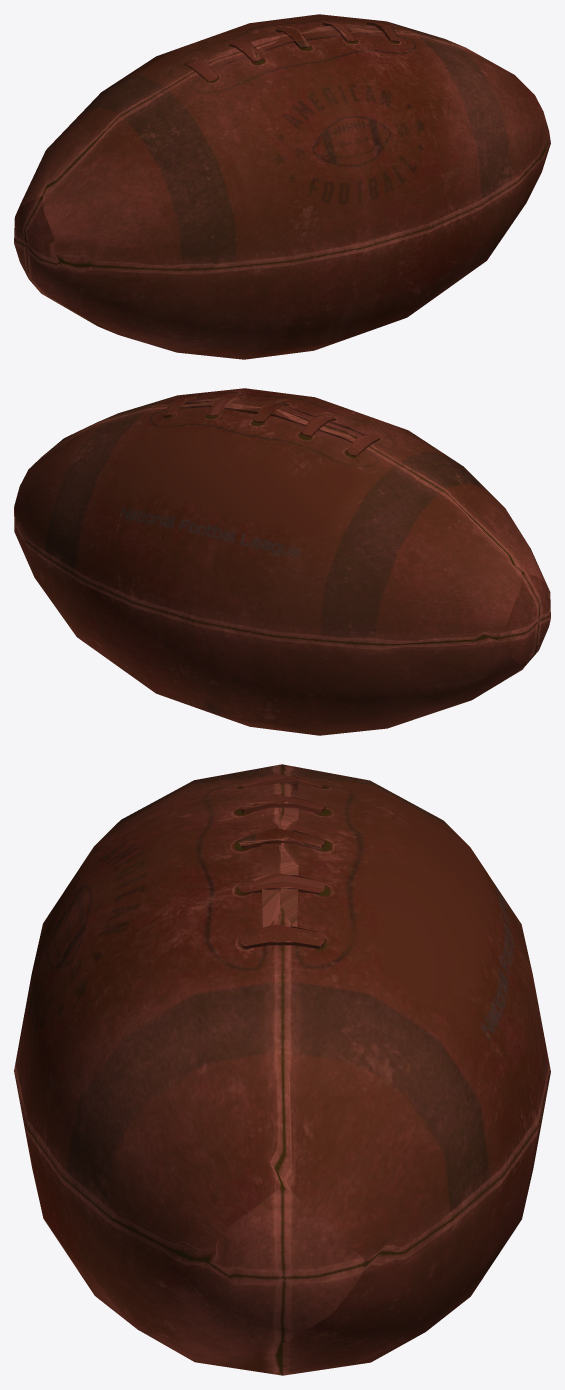
Rendered from Rugby New Compressed.fbx.
The picture shows the model from 3 angles, top to bottom: view 1: azimuth 30°, elevation 25°; view 2: azimuth 150°, elevation 25°; view 3: azimuth 270°, elevation 25°; orthographic projection. The views are drawn at different scales.
Visible parts, largest first — view 1: RootNode__gltf_orientation_matrix__1; view 2: RootNode__gltf_orientation_matrix__1; view 3: RootNode__gltf_orientation_matrix__1.
Boxes of the visible parts, x1,y1,x2,y2 form: RootNode__gltf_orientation_matrix__1: (14,14,550,359); RootNode__gltf_orientation_matrix__1: (14,388,550,735); RootNode__gltf_orientation_matrix__1: (14,764,550,1375).
Size of the model in its own units: 200 by 112 by 111.
